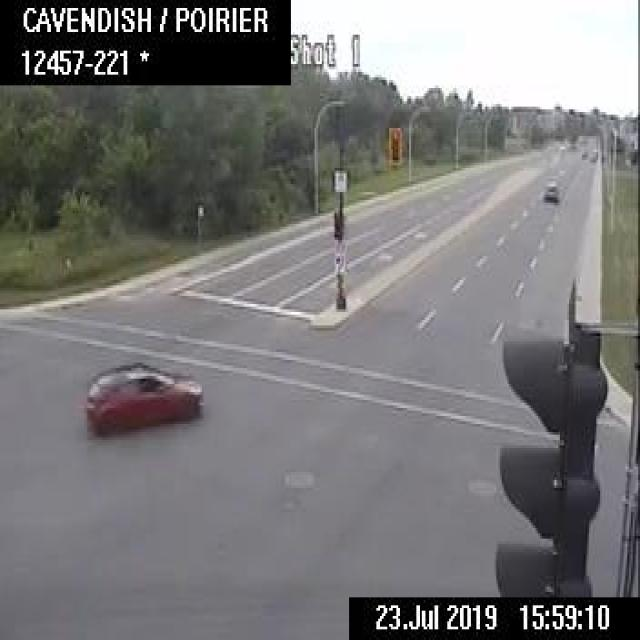vehicle: (84, 360, 200, 433), (542, 180, 558, 202)
